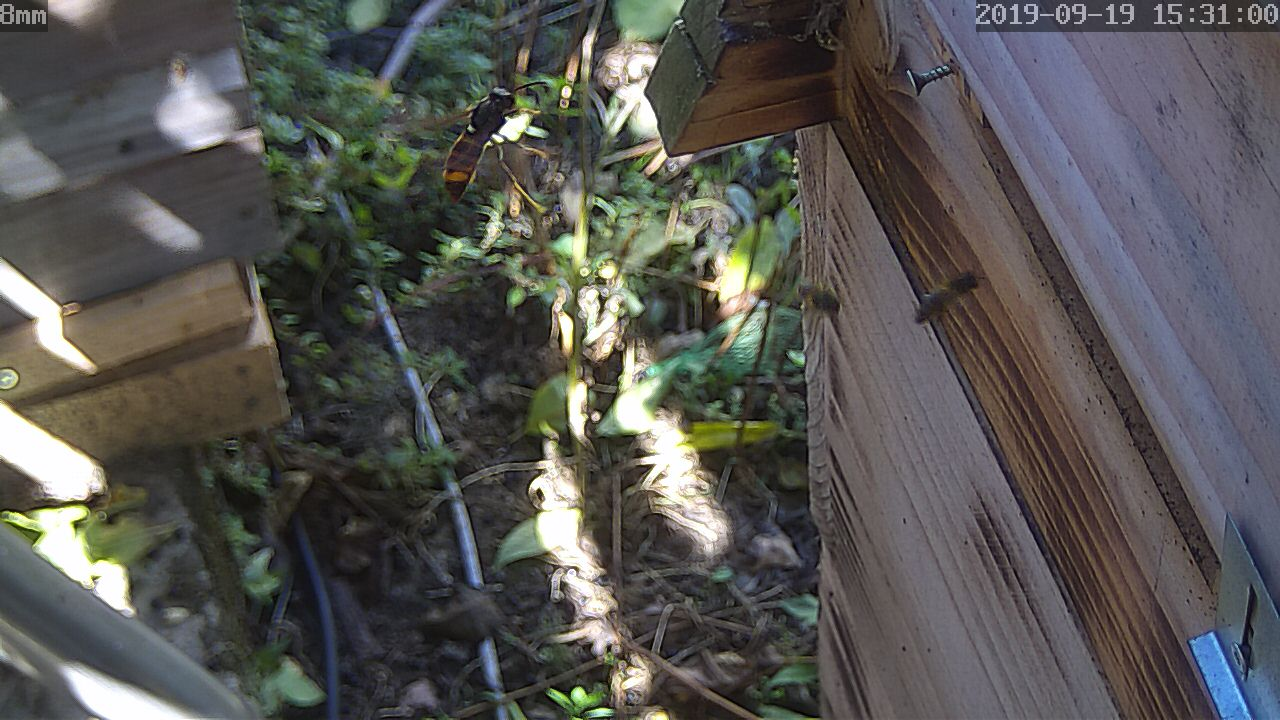bee: (911, 261, 987, 332)
hornet: (435, 82, 560, 219)
